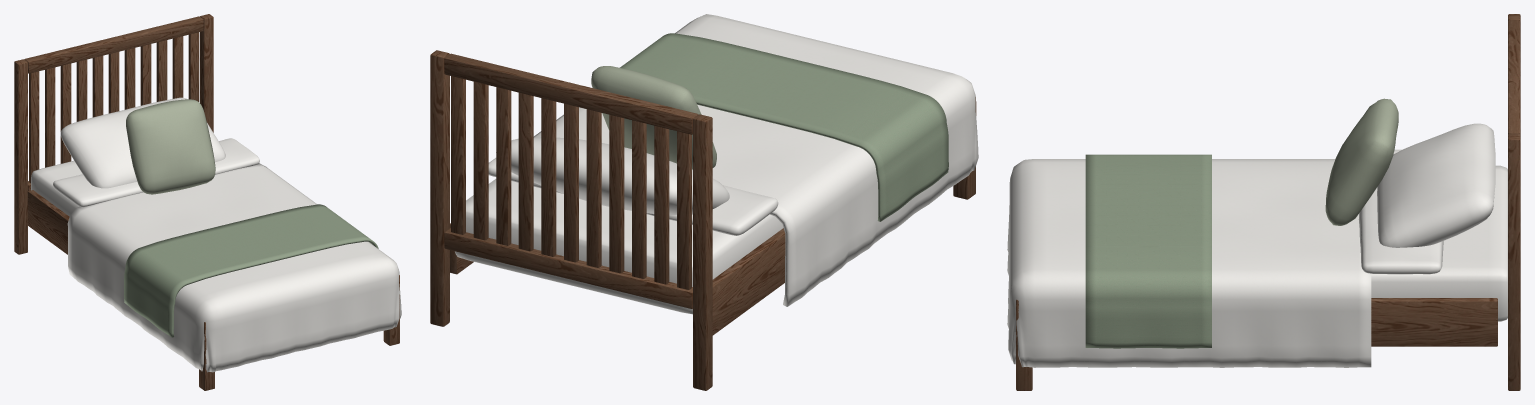
Rendered from cama_listones_105.glb.
3 views of the same model, side by side, from view 1: azimuth 30°, elevation 25°; view 2: azimuth 150°, elevation 25°; view 3: azimuth 270°, elevation 25° (orthographic). The views are drawn at different scales.
Parts seen in each view (by area): view 1: cama_listones_105; view 2: cama_listones_105; view 3: cama_listones_105.
Part boxes in pixels (x1,y1,x2,y2): cama_listones_105: (14,14,401,390); cama_listones_105: (430,14,978,390); cama_listones_105: (1007,14,1520,390).
Size of the model in its own units: 1.27 by 1.1 by 2.03.
4 materials, 4 textured.
